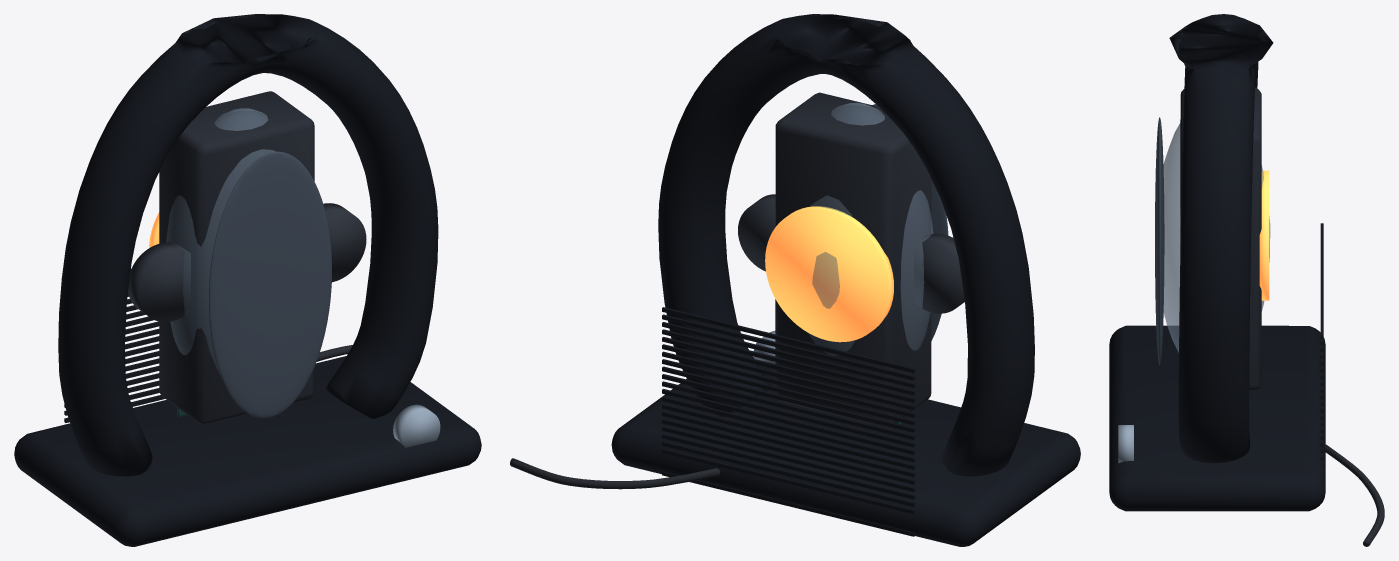
File: nocturne-one-low.glb
The picture shows the model from 3 angles, left to right: view 1: azimuth 30°, elevation 25°; view 2: azimuth 150°, elevation 25°; view 3: azimuth 270°, elevation 25°; orthographic projection. The views are drawn at different scales.
Visible parts, largest first — view 1: outer_shell, base, acoustic_membrane, internal_frame, glass_core, left_driver, thermal_grille, right_driver, rotary_control; view 2: outer_shell, thermal_grille, base, internal_frame, eclipse_disk, glass_core, left_driver, right_driver, braided_cable, acoustic_membrane; view 3: outer_shell, base, glass_core, internal_frame, acoustic_membrane, eclipse_disk, braided_cable, thermal_grille, rotary_control.
Boxes of the visible parts, left/top/right/bottom form: outer_shell: left=58, top=14, right=438, bottom=476; base: left=14, top=356, right=481, bottom=546; acoustic_membrane: left=209, top=151, right=331, bottom=418; internal_frame: left=159, top=91, right=314, bottom=424; glass_core: left=166, top=108, right=275, bottom=377; left_driver: left=128, top=242, right=190, bottom=322; thermal_grille: left=64, top=269, right=316, bottom=422; right_driver: left=323, top=203, right=366, bottom=282; rotary_control: left=393, top=404, right=440, bottom=447; outer_shell: left=658, top=14, right=1034, bottom=476; thermal_grille: left=662, top=307, right=915, bottom=536; base: left=611, top=356, right=1080, bottom=546; internal_frame: left=775, top=92, right=931, bottom=427; eclipse_disk: left=765, top=206, right=893, bottom=342; glass_core: left=809, top=102, right=933, bottom=355; left_driver: left=914, top=233, right=964, bottom=313; right_driver: left=738, top=194, right=775, bottom=271; braided_cable: left=510, top=458, right=720, bottom=489; acoustic_membrane: left=872, top=104, right=948, bottom=340; outer_shell: left=1169, top=14, right=1273, bottom=463; base: left=1109, top=325, right=1325, bottom=511; glass_core: left=1163, top=123, right=1270, bottom=352; internal_frame: left=1180, top=87, right=1261, bottom=390; acoustic_membrane: left=1155, top=117, right=1164, bottom=364; eclipse_disk: left=1259, top=170, right=1269, bottom=300; braided_cable: left=1324, top=443, right=1384, bottom=546; thermal_grille: left=1320, top=223, right=1323, bottom=466; rotary_control: left=1118, top=425, right=1133, bottom=462.
Bounding box in the file's own units: 380 × 360 × 229.
